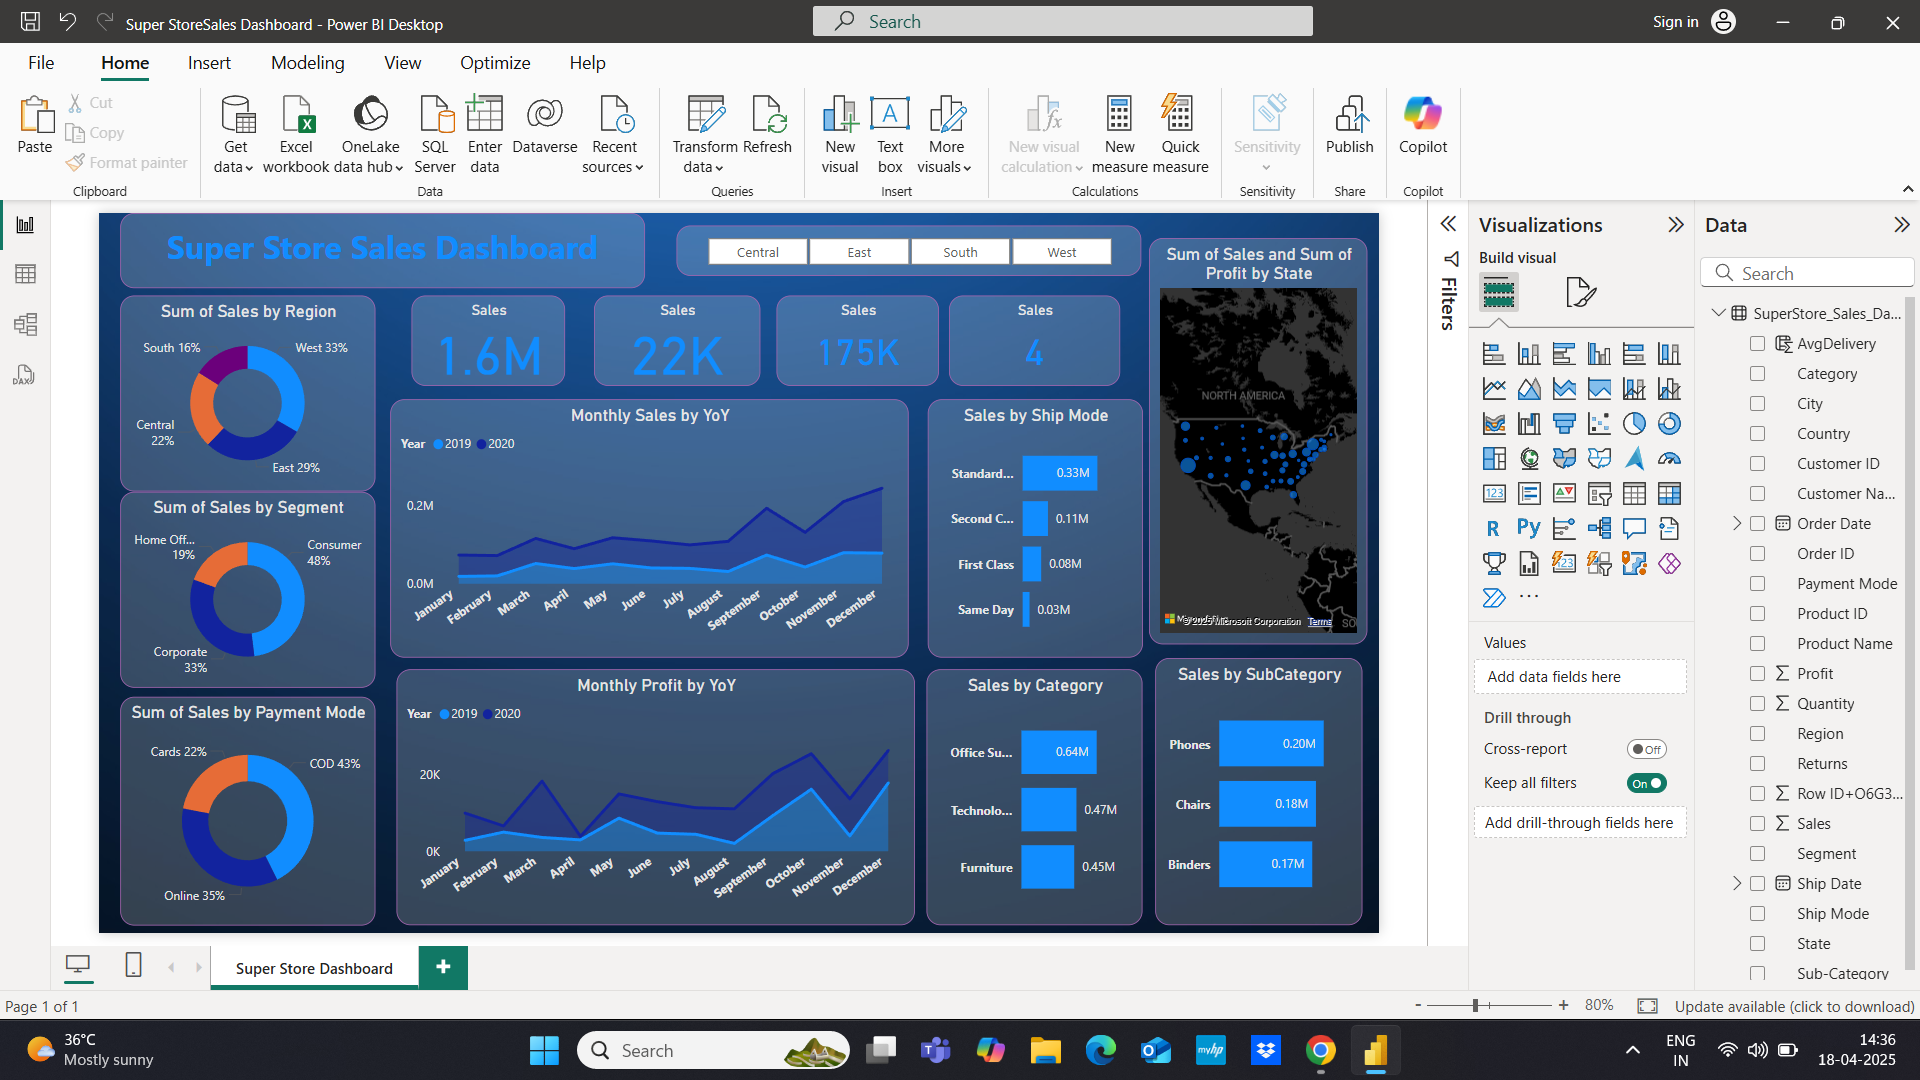

The page's visual inventory and layout, read from the dashboard file:
{"tool":"powerbi","page":{"name":"Super Store Dashboard","canvas":[1280,720],"ordinal":0},"visuals":[{"type":"clusteredBarChart","title":"Sales by Category","fields":{"Category":["SuperStore_Sales_Dataset.Category"],"Y":["SuperStore_Sales_Dataset.Sales"]},"box":[827.5,456.2,216.2,256.2],"z":0},{"type":"clusteredBarChart","title":"Sales by SubCategory","fields":{"Category":["SuperStore_Sales_Dataset.Sub-Category"],"Y":["SuperStore_Sales_Dataset.Sales"]},"box":[1056.2,445,207.5,267.5],"z":1000},{"type":"clusteredBarChart","title":"Sales by Ship Mode","fields":{"Category":["SuperStore_Sales_Dataset.Ship Mode"],"Y":["SuperStore_Sales_Dataset.Sales"]},"box":[828.8,186.2,215,258.8],"z":2000},{"type":"stackedAreaChart","title":"Monthly Sales by YoY","fields":{"Y":["SuperStore_Sales_Dataset.Sales"],"Category":["SuperStore_Sales_Dataset.Order Date.Variation.Date Hierarchy.Month","SuperStore_Sales_Dataset.Order Date.Variation.Date Hierarchy.Day"],"Series":["SuperStore_Sales_Dataset.Order Date.Variation.Date Hierarchy.Year"]},"box":[291.2,186.2,518.8,258.8],"z":3000},{"type":"stackedAreaChart","title":"Monthly Profit by YoY","fields":{"Category":["SuperStore_Sales_Dataset.Order Date.Variation.Date Hierarchy.Month","SuperStore_Sales_Dataset.Order Date.Variation.Date Hierarchy.Day"],"Series":["SuperStore_Sales_Dataset.Order Date.Variation.Date Hierarchy.Year"],"Y":["SuperStore_Sales_Dataset.Profit"]},"box":[297.5,456.2,518.8,256.2],"z":4000},{"type":"map","fields":{"Category":["SuperStore_Sales_Dataset.State"],"Size":["SuperStore_Sales_Dataset.Sales"]},"box":[1050,25,218.8,406.2],"z":5000},{"type":"donutChart","fields":{"Category":["SuperStore_Sales_Dataset.Segment"],"Y":["SuperStore_Sales_Dataset.Sales"]},"box":[21.2,278.8,255,196.2],"z":6000},{"type":"donutChart","fields":{"Category":["SuperStore_Sales_Dataset.Payment Mode"],"Y":["SuperStore_Sales_Dataset.Sales"]},"box":[21.2,483.8,255,228.8],"z":7000},{"type":"slicer","fields":{"Values":["SuperStore_Sales_Dataset.Region"]},"box":[577.5,12.5,465,50],"z":8000},{"type":"textbox","box":[21.2,0,525,75],"z":9000},{"type":"card","title":"Sales","fields":{"Values":["SuperStore_Sales_Dataset.Sales"]},"box":[312.5,82.5,153.8,90],"z":10000},{"type":"card","title":"Sales","fields":{"Values":["SuperStore_Sales_Dataset.Quantity"]},"box":[495,82.5,166.2,90],"z":10001},{"type":"card","title":"Sales","fields":{"Values":["SuperStore_Sales_Dataset.Profit"]},"box":[677.5,82.5,162.5,90],"z":10002},{"type":"card","title":"Sales","fields":{"Values":["SuperStore_Sales_Dataset.AvgDelivery"]},"box":[850,82.5,171.2,90],"z":10003},{"type":"donutChart","fields":{"Y":["SuperStore_Sales_Dataset.Sales"],"Category":["SuperStore_Sales_Dataset.Region"]},"box":[21.2,82.5,255,196.2],"z":10004}]}

Visuals, with their boxes on the page's 1280x720 design canvas (x1, y1, x2, y2). These are canvas units, not pixel positions in the 1920x1080 screenshot, which may show the page scaled, cropped or inside an application window:
"Sales by Category" clusteredBarChart: (left=828, top=456, right=1044, bottom=712)
"Sales by SubCategory" clusteredBarChart: (left=1056, top=445, right=1264, bottom=712)
"Sales by Ship Mode" clusteredBarChart: (left=829, top=186, right=1044, bottom=445)
"Monthly Sales by YoY" stackedAreaChart: (left=291, top=186, right=810, bottom=445)
"Monthly Profit by YoY" stackedAreaChart: (left=298, top=456, right=816, bottom=712)
map - SuperStore_Sales_Dataset.State x SuperStore_Sales_Dataset.Sales: (left=1050, top=25, right=1269, bottom=431)
donutChart - SuperStore_Sales_Dataset.Segment x SuperStore_Sales_Dataset.Sales: (left=21, top=279, right=276, bottom=475)
donutChart - SuperStore_Sales_Dataset.Payment Mode x SuperStore_Sales_Dataset.Sales: (left=21, top=484, right=276, bottom=713)
slicer - SuperStore_Sales_Dataset.Region: (left=578, top=12, right=1042, bottom=62)
textbox: (left=21, top=0, right=546, bottom=75)
"Sales" card: (left=312, top=82, right=466, bottom=172)
"Sales" card: (left=495, top=82, right=661, bottom=172)
"Sales" card: (left=678, top=82, right=840, bottom=172)
"Sales" card: (left=850, top=82, right=1021, bottom=172)
donutChart - SuperStore_Sales_Dataset.Sales x SuperStore_Sales_Dataset.Region: (left=21, top=82, right=276, bottom=279)
